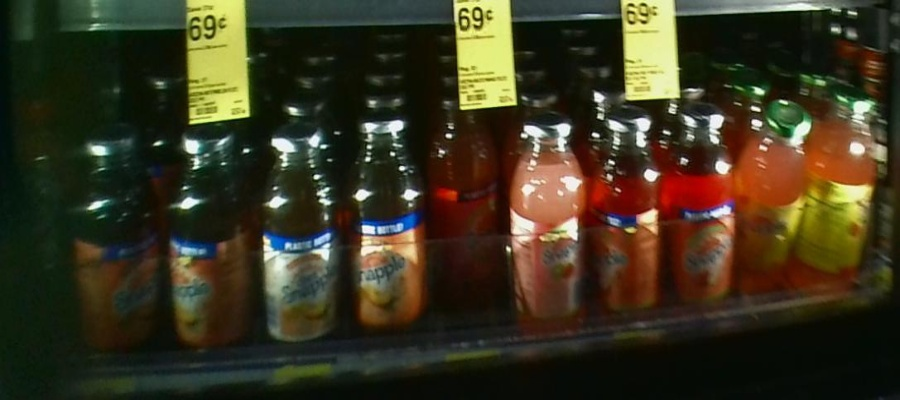bottle: (67, 115, 165, 368), (253, 104, 340, 369), (166, 114, 253, 371), (342, 101, 427, 344), (509, 108, 589, 340), (739, 86, 813, 314), (663, 86, 736, 317), (590, 97, 663, 325), (431, 83, 500, 286), (816, 75, 878, 292)
